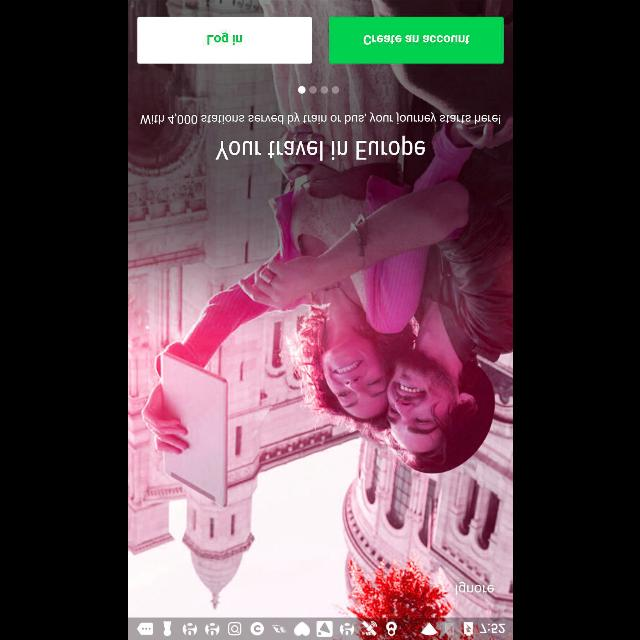backgroundimage: (128, 0, 512, 618)
pageindicator: (297, 86, 339, 94)
text: (214, 135, 424, 161), (140, 112, 500, 125), (454, 581, 494, 595)
textbutton: (136, 16, 312, 64), (328, 16, 504, 64)
uppertaskbar: (128, 617, 512, 639)
